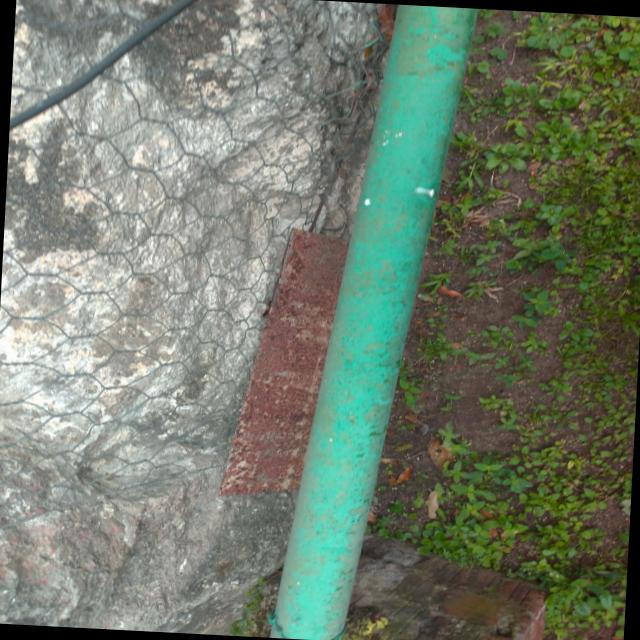gas: (268, 0, 483, 640)
